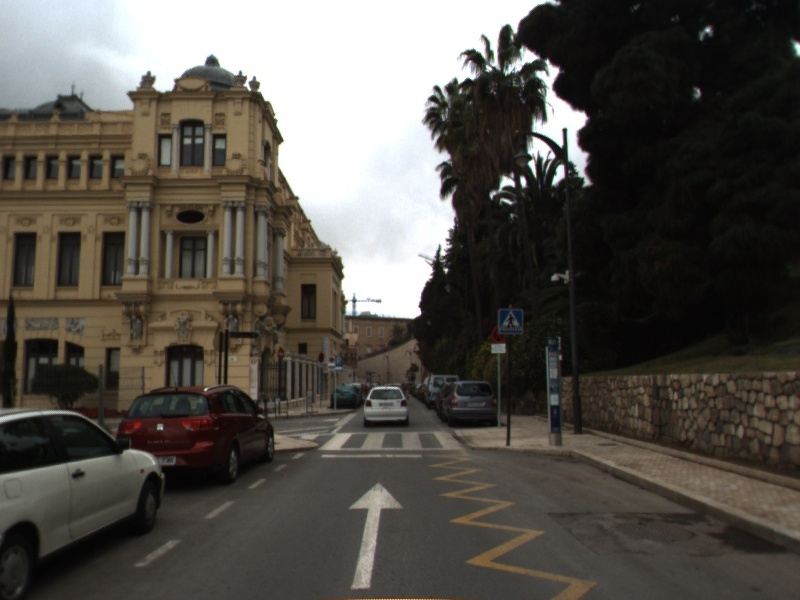STRAIGHT: (345, 478, 408, 591)
